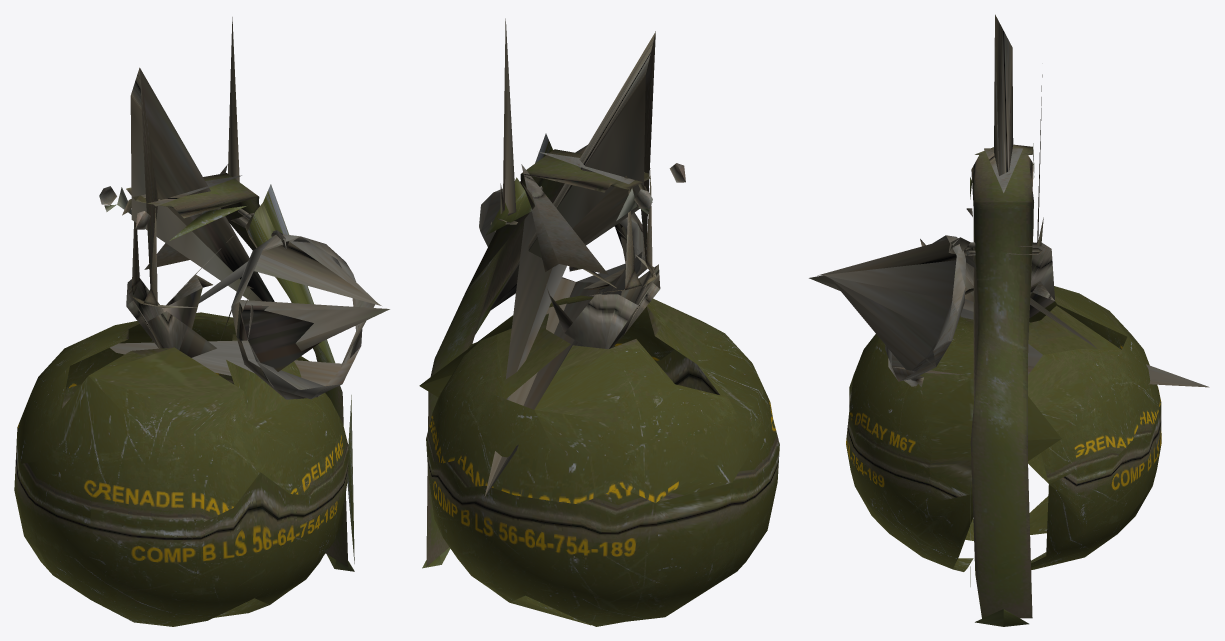
Rendered from grenade_lod_025.obj.
3 renders of one model, left to right at view 1: azimuth 30°, elevation 25°; view 2: azimuth 150°, elevation 25°; view 3: azimuth 270°, elevation 25°, orthographic. The views are drawn at different scales.
Bounding box in the file's own units: 6.5 × 11.48 × 7.91.
1 material, 1 textured.
